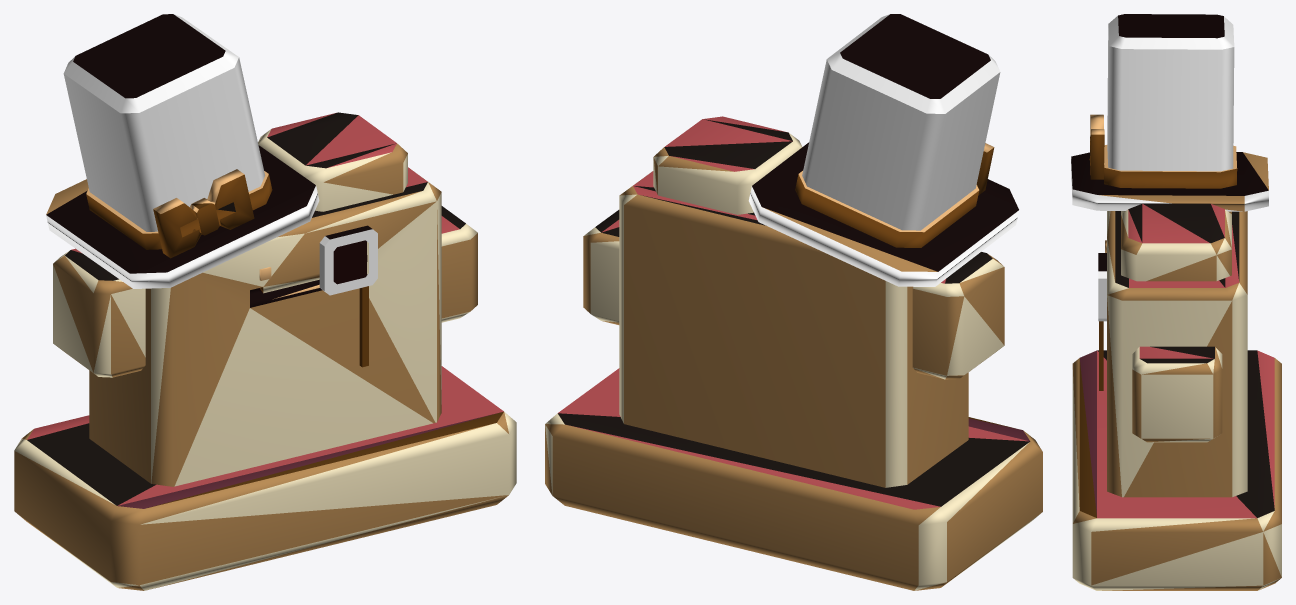
The picture shows the model from 3 angles, left to right: view 1: azimuth 30°, elevation 25°; view 2: azimuth 150°, elevation 25°; view 3: azimuth 270°, elevation 25°; orthographic projection. The views are drawn at different scales.
Parts seen in each view (by area): view 1: pq0132gentleman, pq0132gentleman_obj; view 2: pq0132gentleman, pq0132gentleman_obj; view 3: pq0132gentleman, pq0132gentleman_obj.
Part boxes in pixels (box(x1,y1,x2,y2)): pq0132gentleman: box(14, 112, 516, 590); pq0132gentleman_obj: box(46, 14, 377, 367); pq0132gentleman: box(545, 116, 1042, 590); pq0132gentleman_obj: box(748, 14, 1019, 286); pq0132gentleman: box(1072, 203, 1281, 590); pq0132gentleman_obj: box(1071, 14, 1268, 390).
Size of the model in its own units: 1.83 by 2.14 by 0.9283.
